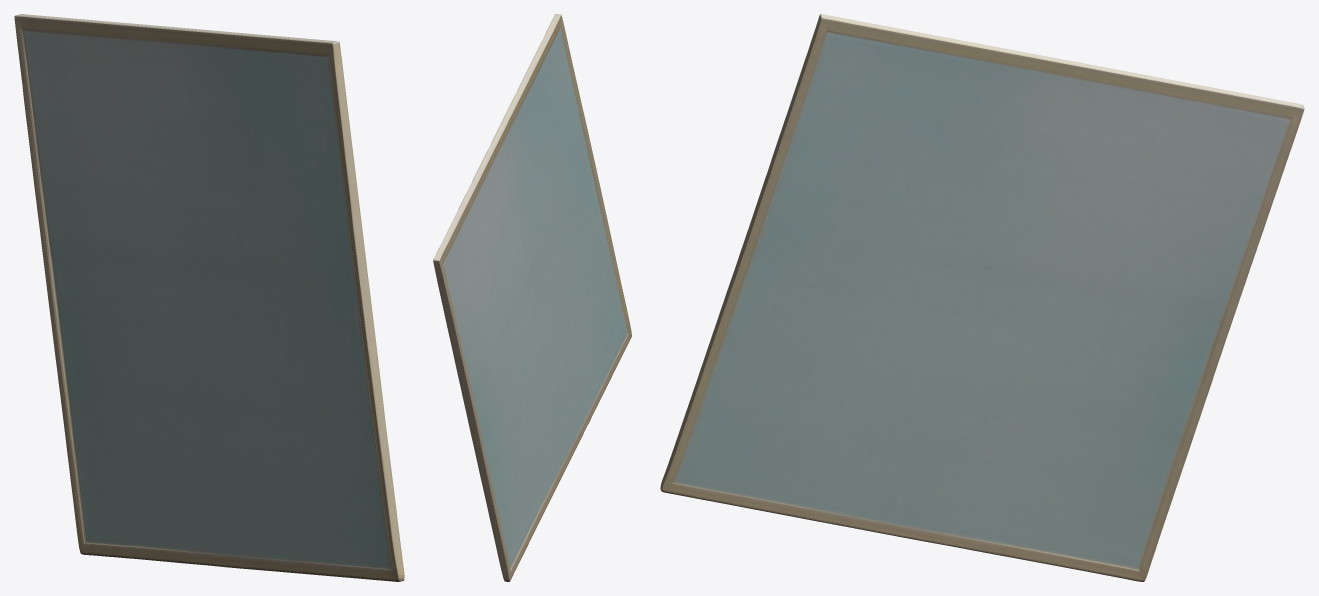
Rendered from triptych_wall_art_on_left_wall_000.glb.
The picture shows the model from 3 angles, left to right: view 1: azimuth 30°, elevation 25°; view 2: azimuth 150°, elevation 25°; view 3: azimuth 270°, elevation 25°; orthographic projection. The views are drawn at different scales.
Visible parts, largest first — view 1: triptych_wall_art_on_left_wall_000.obj; view 2: triptych_wall_art_on_left_wall_000.obj; view 3: triptych_wall_art_on_left_wall_000.obj.
Part boxes in pixels (x1,y1,x2,y2): triptych_wall_art_on_left_wall_000.obj: (14,14,404,581); triptych_wall_art_on_left_wall_000.obj: (433,14,631,581); triptych_wall_art_on_left_wall_000.obj: (660,14,1304,581).
Size of the model in its own units: 0.1089 by 0.6299 by 0.6021.
Materials: 1 (1 with a texture image).
